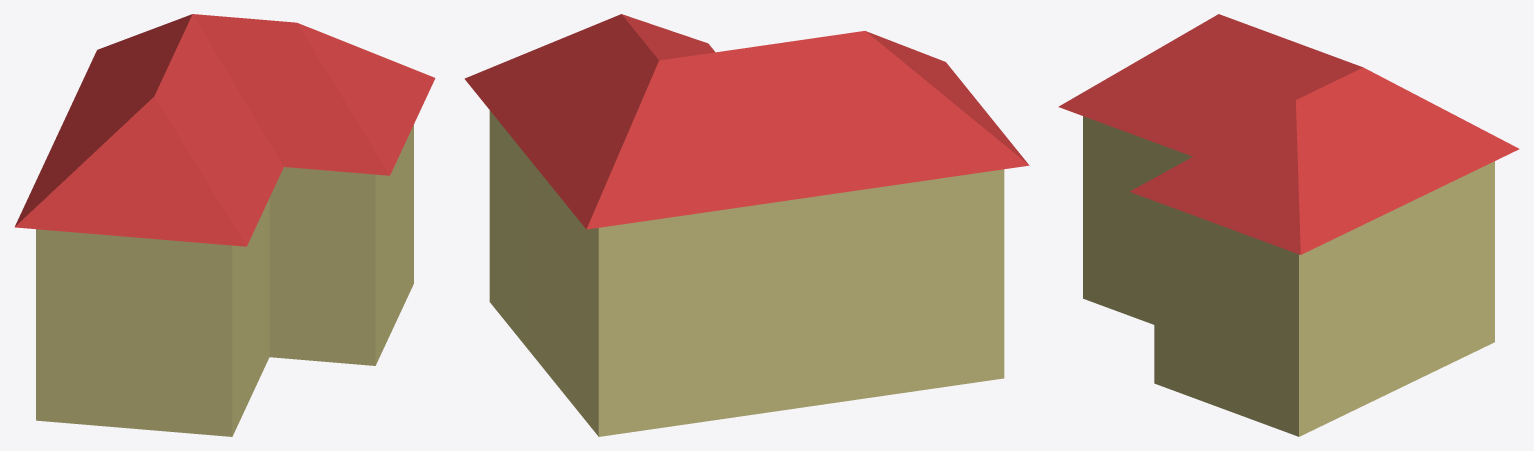
The picture shows the model from 3 angles, left to right: view 1: azimuth 30°, elevation 25°; view 2: azimuth 150°, elevation 25°; view 3: azimuth 270°, elevation 25°; orthographic projection. The views are drawn at different scales.
Size of the model in its own units: 22.24 by 19.64 by 13.19.
